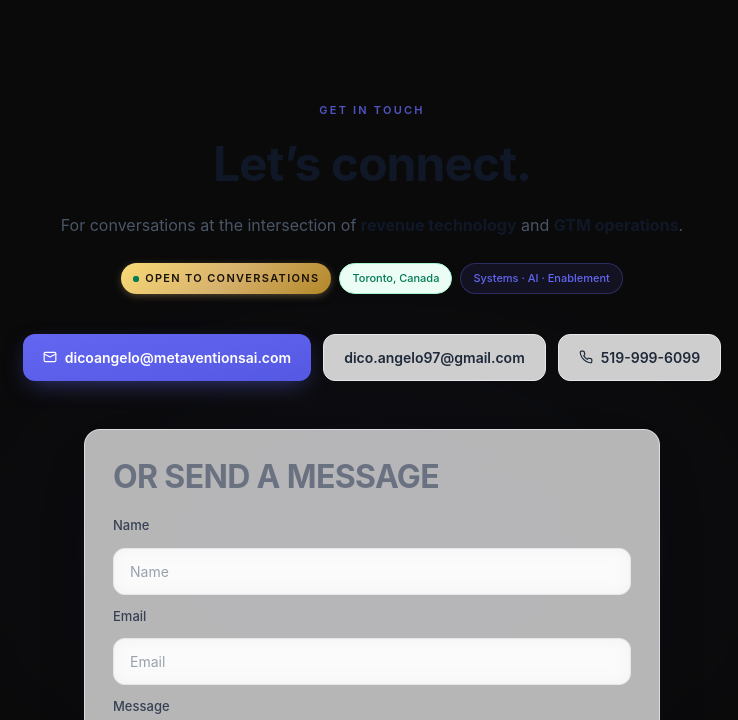
Test case: contact form › retains the message and shows a useful error after a delivery failure
The image size is (738, 720).
In the field labelled "Name": (372, 571) x1=113 y1=548 x2=631 y2=595, type "A Visitor"
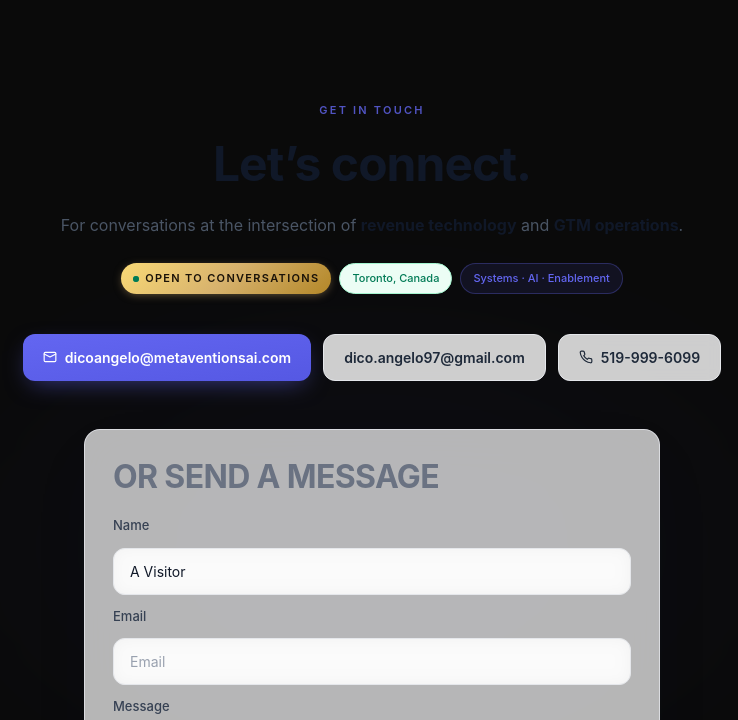
In the field labelled "Email": (372, 662) x1=113 y1=638 x2=631 y2=685, type "visitor@example.com"
(page scrolled)
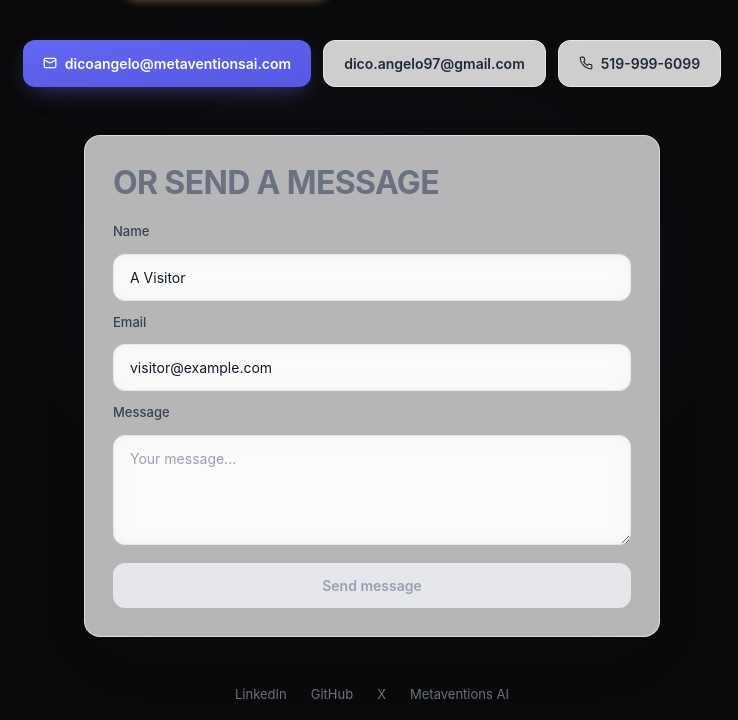
In the text box labelled "Message": (372, 490) x1=113 y1=435 x2=631 y2=545, type "Let's discuss a project."
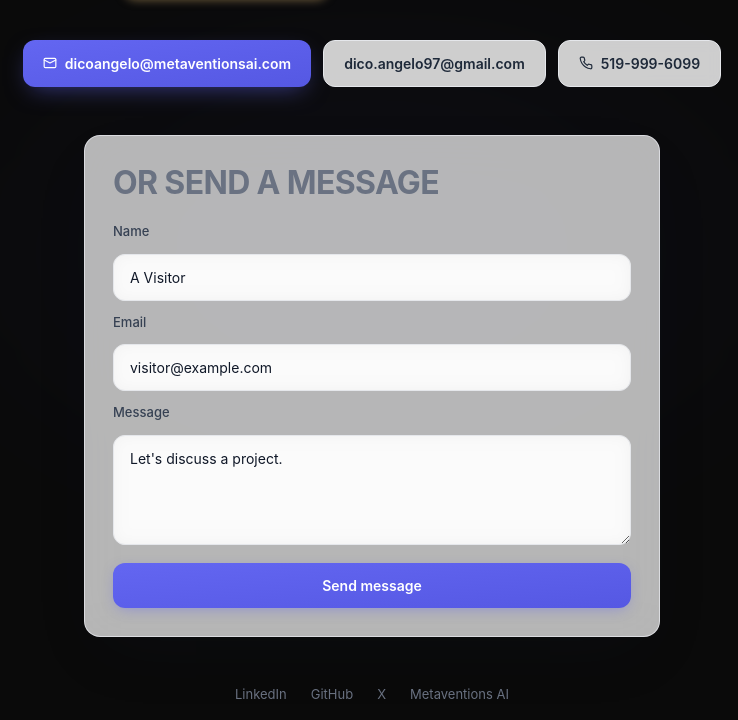
Click the button "Send message": (372, 585) x1=113 y1=563 x2=631 y2=608
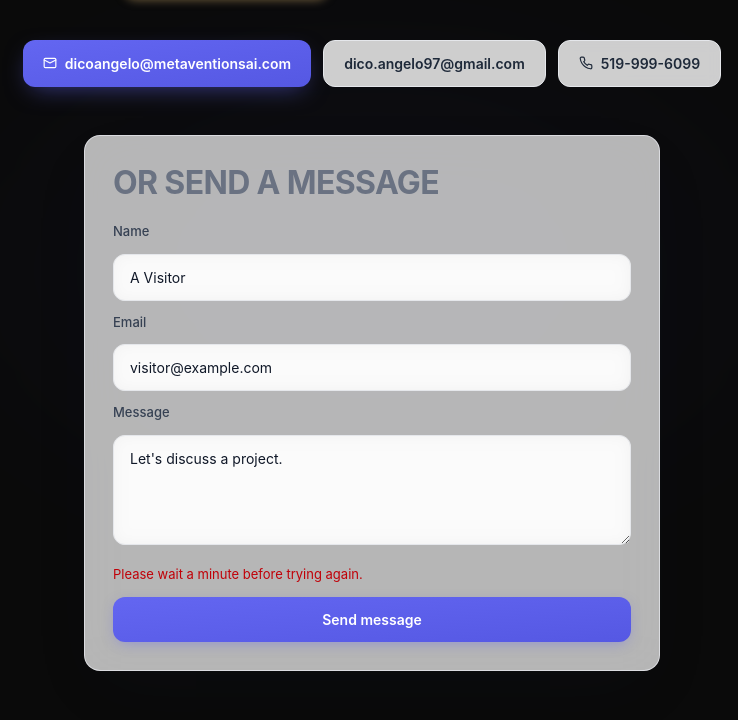
Now the message reads "Please wait a minute before trying again.", box x1=113 y1=566 x2=363 y2=582
